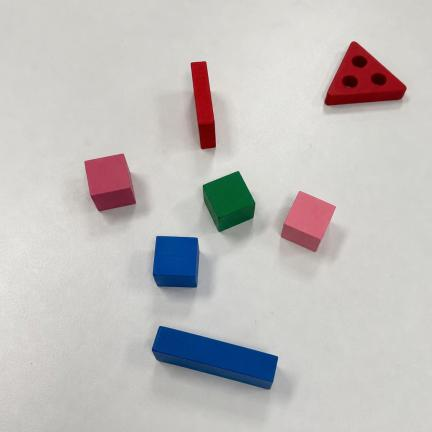BuildingBlocks: (152, 327, 278, 388), (325, 42, 406, 105), (281, 192, 335, 251), (203, 172, 255, 231), (85, 154, 135, 210), (153, 237, 199, 287), (191, 62, 215, 148)
